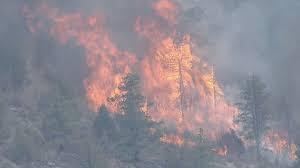fire: (73, 1, 243, 149)
